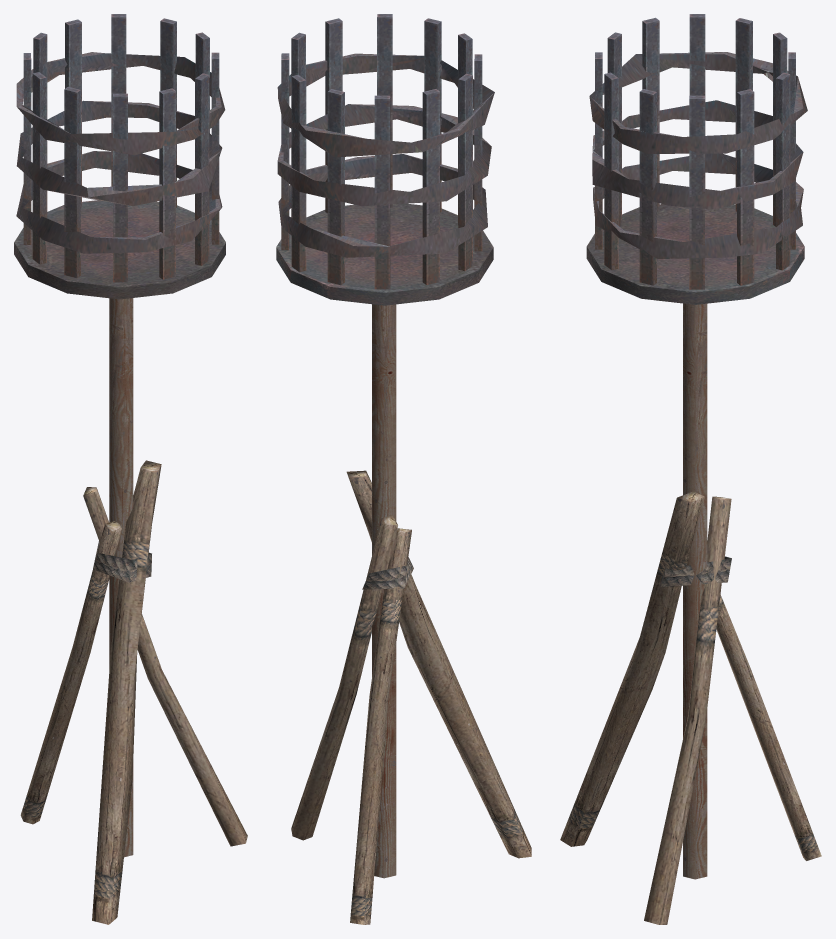
File: qweqweqweqweqweqwe.fbx
3 renders of one model, left to right at view 1: azimuth 30°, elevation 25°; view 2: azimuth 150°, elevation 25°; view 3: azimuth 270°, elevation 25°, orthographic. The views are drawn at different scales.
Visible parts, largest first — view 1: LV_Cornus_HarbatyRuins_Brazier_SM_SVR; view 2: LV_Cornus_HarbatyRuins_Brazier_SM_SVR; view 3: LV_Cornus_HarbatyRuins_Brazier_SM_SVR.
Boxes of the visible parts, x1,y1,x2,y2 form: LV_Cornus_HarbatyRuins_Brazier_SM_SVR: (14, 14, 247, 924); LV_Cornus_HarbatyRuins_Brazier_SM_SVR: (276, 14, 531, 924); LV_Cornus_HarbatyRuins_Brazier_SM_SVR: (560, 14, 821, 924).
Size of the model in its own units: 0.1345 by 0.5114 by 0.1474.
